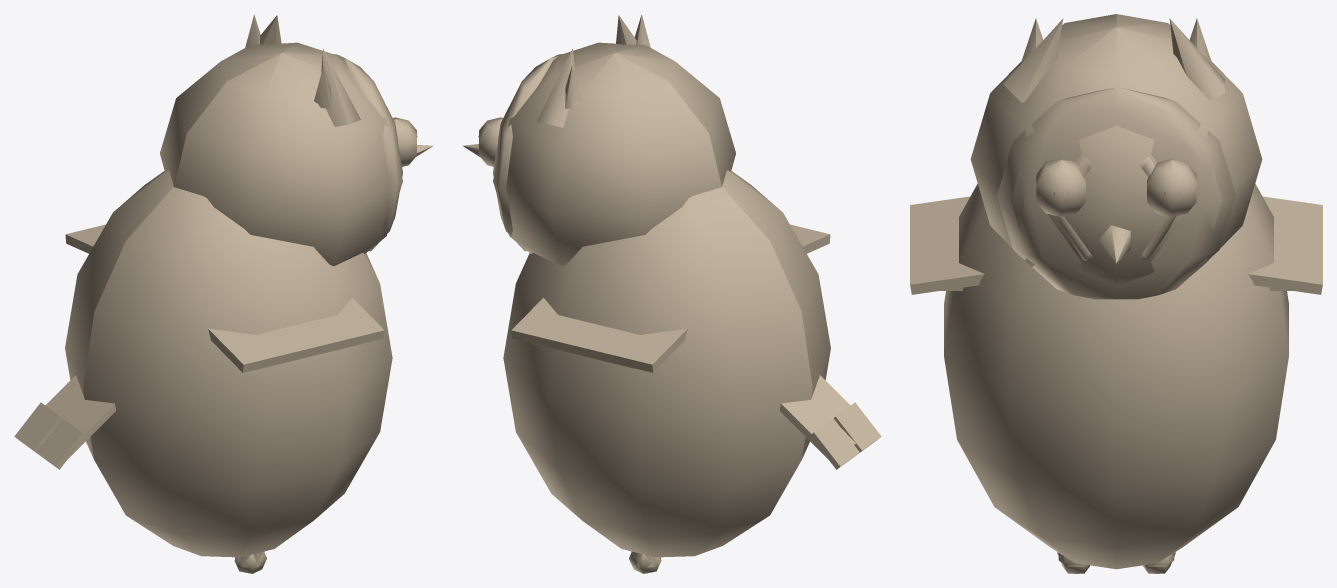
Rendered from owl.glb.
3 views of the same model, side by side, from view 1: azimuth 30°, elevation 25°; view 2: azimuth 150°, elevation 25°; view 3: azimuth 270°, elevation 25° (orthographic). The views are drawn at different scales.
Visible parts, largest first — view 1: Bird; view 2: Bird; view 3: Bird.
Boxes of the visible parts, <box> form: Bird: <box>14,14,433,573</box>; Bird: <box>462,14,881,573</box>; Bird: <box>910,14,1322,573</box>.
Size of the model in its own units: 0.8139 by 1 by 0.6297.
